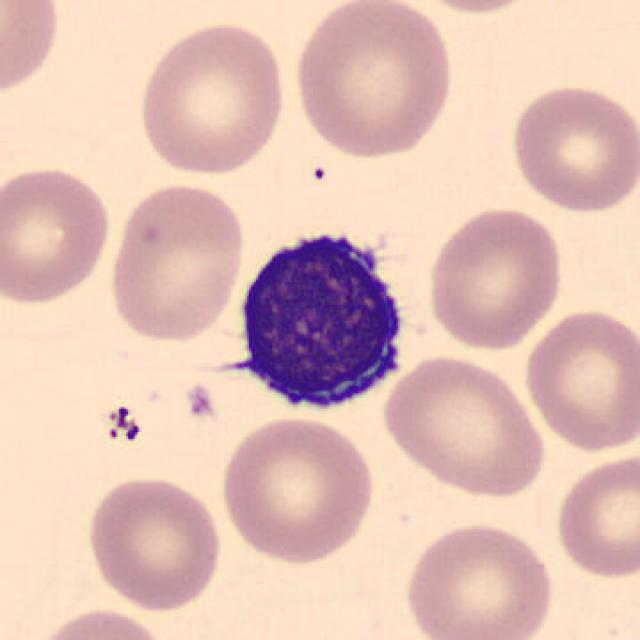Lymphocyte: (224, 215, 418, 421), (226, 215, 418, 421)
RBC: (290, 0, 457, 162), (377, 351, 549, 499), (133, 18, 290, 178), (215, 413, 379, 566), (105, 178, 249, 346), (423, 202, 567, 352), (82, 471, 226, 614), (400, 518, 558, 640), (519, 305, 638, 455), (507, 81, 638, 215), (0, 162, 114, 309), (551, 449, 638, 582), (0, 0, 64, 102), (28, 604, 172, 640), (400, 0, 551, 16)
